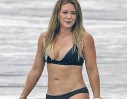female: (52, 1, 83, 35)
